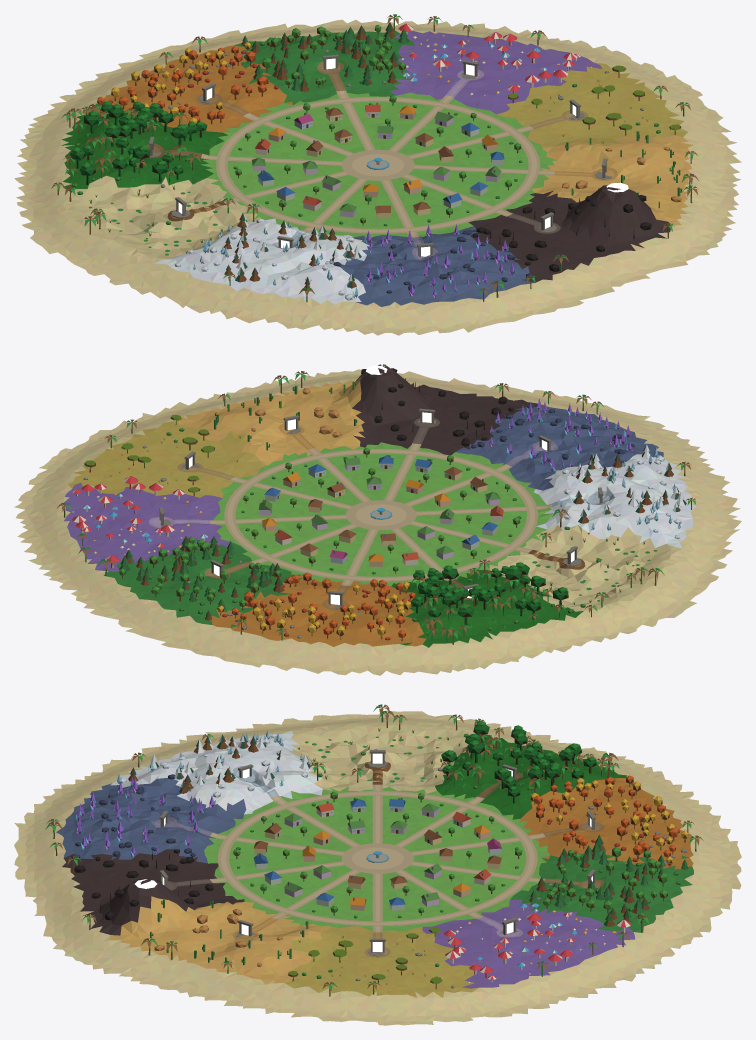
Rendered from hub_island.glb.
The picture shows the model from 3 angles, top to bottom: view 1: azimuth 30°, elevation 25°; view 2: azimuth 150°, elevation 25°; view 3: azimuth 270°, elevation 25°; orthographic projection. The views are drawn at different scales.
Parts seen in each view (by area): view 1: Terrain, Path_Ring, Path_Plaza, Path_Forest, Path_Mushroom, Path_Autumn, Path_Desert, Path_Safari, Path_Jungle, Path_Volcano, Path_Water, Path_Ice (+1 smaller); view 2: Terrain, Path_Ring, Path_Plaza, Path_Volcano, Path_Water, Path_Crystal, Path_Safari, Path_Desert, Path_Forest, Path_Mushroom, Path_Autumn, Path_Ice (+1 smaller); view 3: Terrain, Path_Ring, Path_Plaza, Path_Ice, Path_Water, Path_Desert, Path_Volcano, Path_Mushroom, Path_Jungle, Path_Autumn, Path_Crystal, Path_Safari (+1 smaller).
Part boxes in pixels (box(x1,y1,x2,y2)): Terrain: box(14, 19, 741, 335); Path_Ring: box(216, 96, 539, 233); Path_Plaza: box(341, 149, 414, 180); Path_Forest: box(329, 73, 375, 150); Path_Mushroom: box(389, 79, 469, 151); Path_Autumn: box(215, 100, 353, 156); Path_Desert: box(413, 164, 592, 176); Path_Safari: box(407, 116, 566, 159); Path_Jungle: box(164, 150, 342, 165); Path_Volcano: box(402, 174, 540, 225); Path_Water: box(189, 171, 348, 213); Path_Ice: box(290, 178, 367, 243); Terrain: box(14, 366, 741, 675); Path_Ring: box(224, 449, 538, 581); Path_Plaza: box(346, 500, 416, 530); Path_Volcano: box(384, 427, 428, 500); Path_Water: box(409, 521, 566, 562); Path_Crystal: box(404, 449, 538, 506); Path_Safari: box(198, 468, 352, 509); Path_Desert: box(292, 434, 370, 502); Path_Forest: box(223, 524, 357, 573); Path_Mushroom: box(173, 514, 346, 524); Path_Autumn: box(336, 529, 378, 599); Path_Ice: box(416, 498, 590, 515); Terrain: box(14, 710, 741, 1025); Path_Ring: box(218, 791, 537, 926); Path_Plaza: box(341, 843, 413, 873); Path_Ice: box(251, 779, 360, 847); Path_Water: box(372, 768, 382, 843); Path_Desert: box(252, 870, 360, 932); Path_Volcano: box(175, 861, 344, 886); Path_Mushroom: box(395, 869, 503, 929); Path_Jungle: box(395, 782, 501, 847); Path_Autumn: box(410, 828, 582, 855); Path_Crystal: box(173, 823, 344, 855); Path_Safari: box(372, 873, 382, 938).
Size of what is drawn, in the model's own units: 392 by 25.3 by 382.
